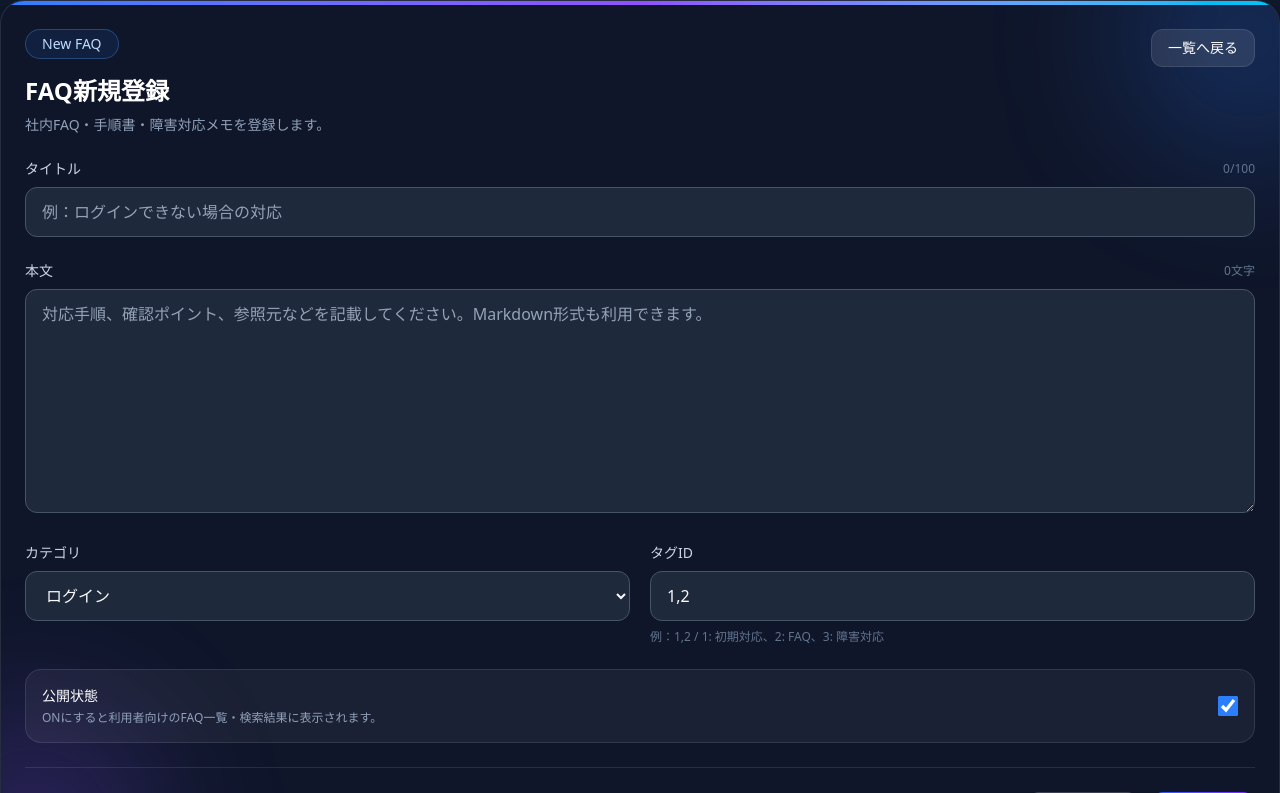
Test: NewFaqPage › タイトル入力時に文字数が更新される
Expected: the text "0/100" is shown, left=1223, top=161, right=1255, bottom=177
Type "ログインできない" into the field with placeholder "例：ログインできない場合の対応" at [640, 212], box left=25, top=187, right=1255, bottom=237
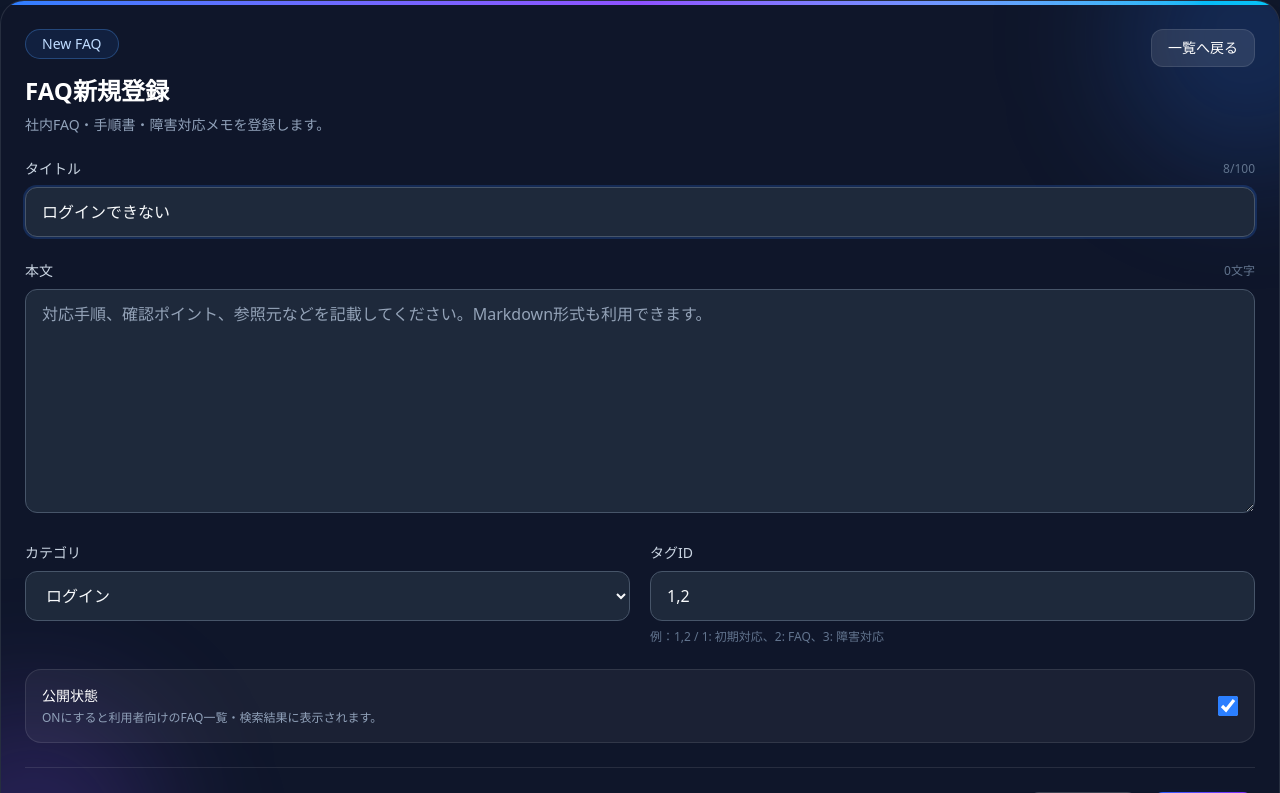
Expected: the text "8/100" is shown, left=1223, top=161, right=1255, bottom=177
